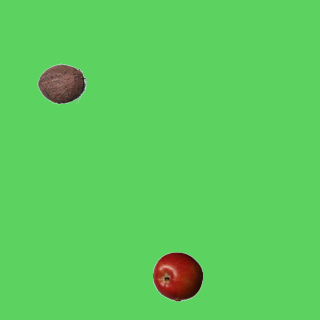Apple Braeburn: (152, 251, 202, 301)
Cocos: (36, 58, 86, 108)
